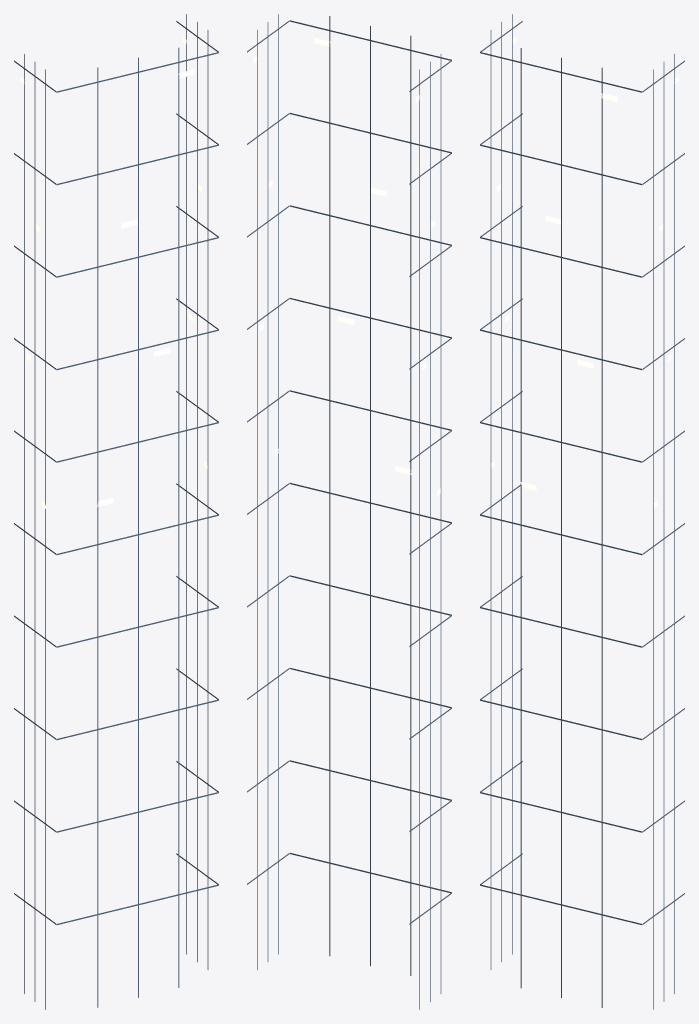
The model's file is SM_MM_W01_Facade.fbx.
3 views of the same model, side by side, from view 1: azimuth 30°, elevation 25°; view 2: azimuth 150°, elevation 25°; view 3: azimuth 330°, elevation 25° (orthographic).
Visible parts, largest first — view 1: SM_MM_W01_Facade; view 2: SM_MM_W01_Facade; view 3: SM_MM_W01_Facade.
Boxes of the visible parts, bbox=[...] form: SM_MM_W01_Facade: bbox=[14, 14, 218, 1009]; SM_MM_W01_Facade: bbox=[247, 14, 451, 1009]; SM_MM_W01_Facade: bbox=[480, 14, 684, 1009].
Bounding box in the file's own units: 22.05 × 10.03 × 122.
